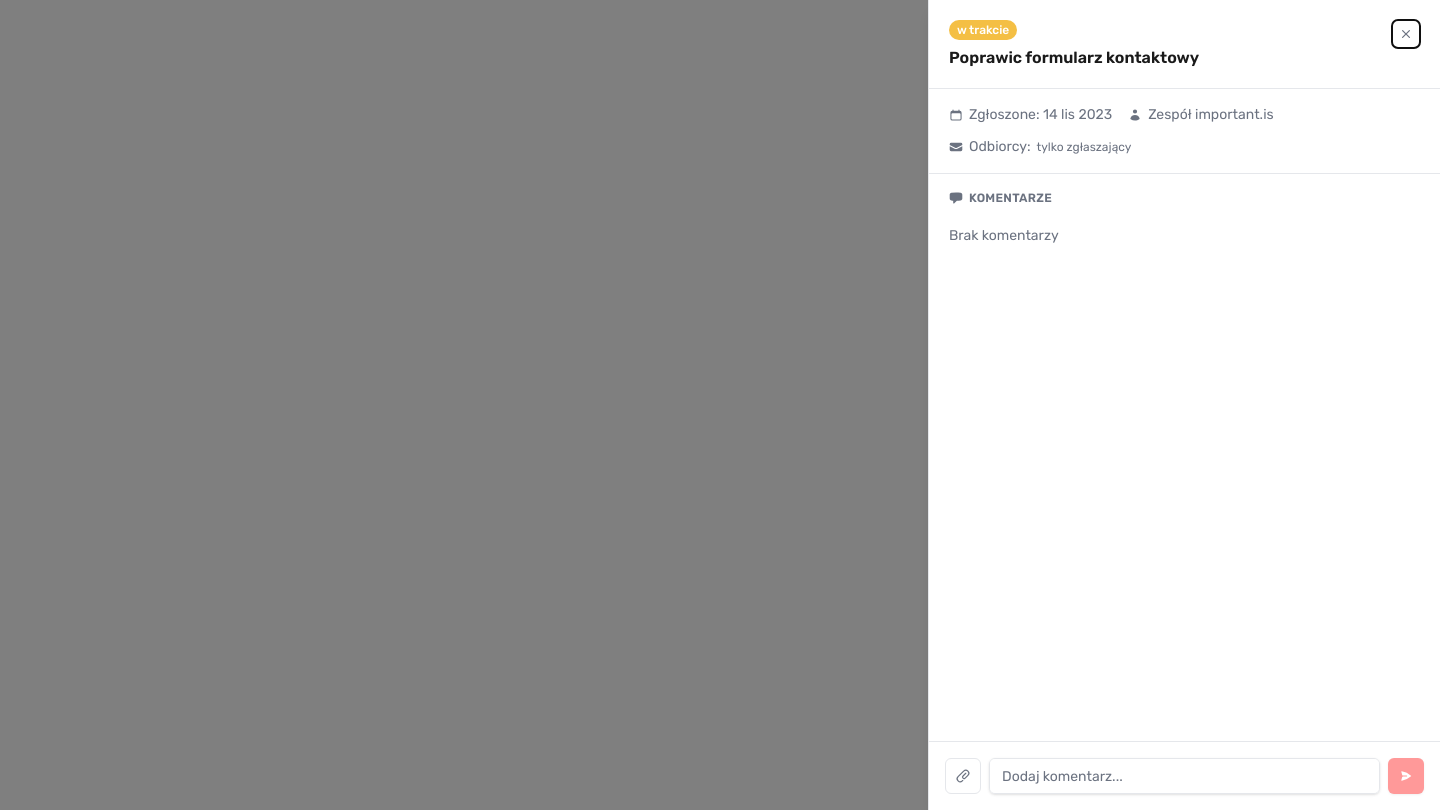
Test: wysylanie komentarza › sam Enter wysyla komentarz, tak jak wczesniej klikniecie przycisku
This screenshot has width=1440, height=810.
Expected: the text "Brak komentarzy" is shown, [949,227,1059,244]
Step 1. Type "Tresc" into the text box with placeholder "Dodaj komentarz..." → [1184, 776], box [989,758,1380,794]
Then press Enter
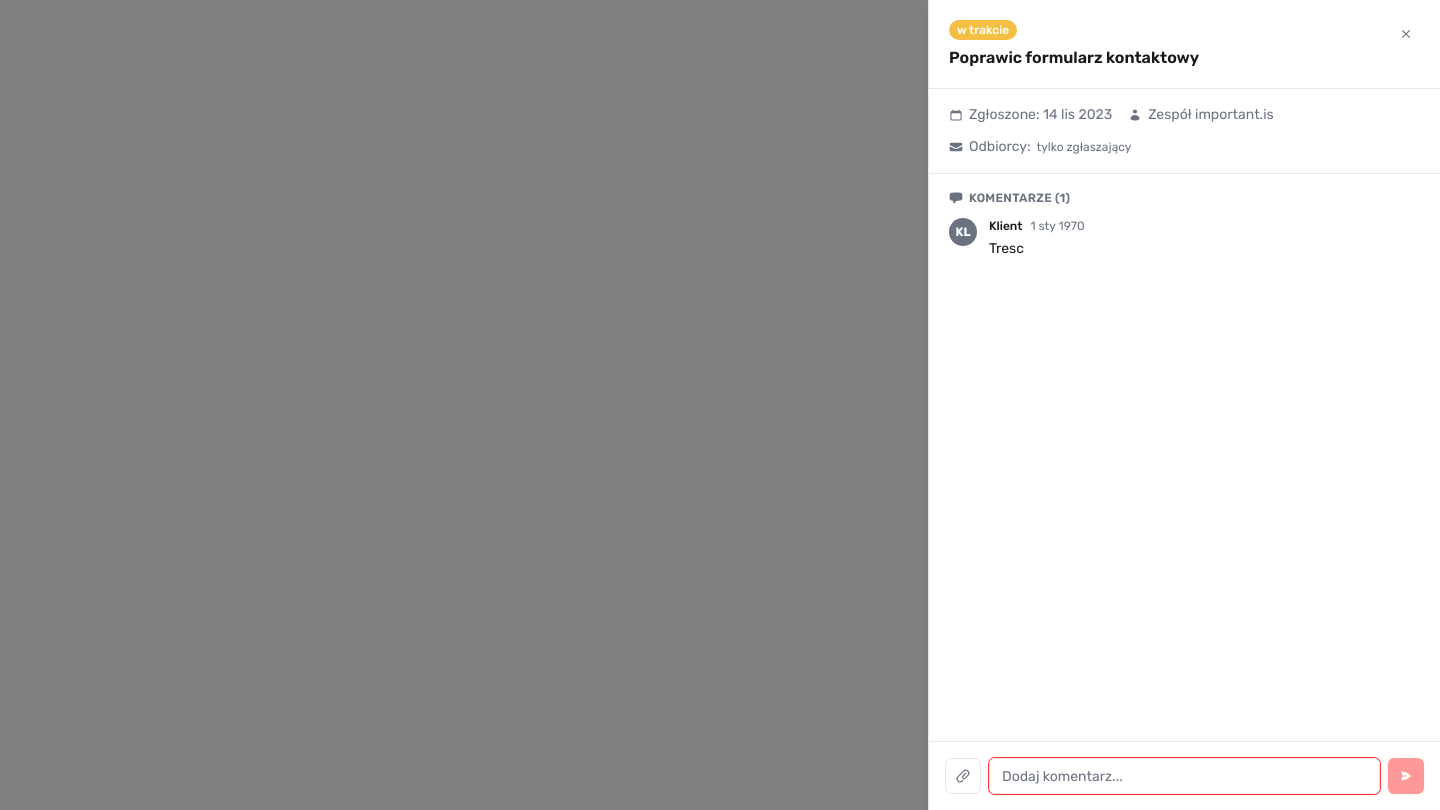
Now the text "Tresc" is shown, box [989,240,1024,257]
